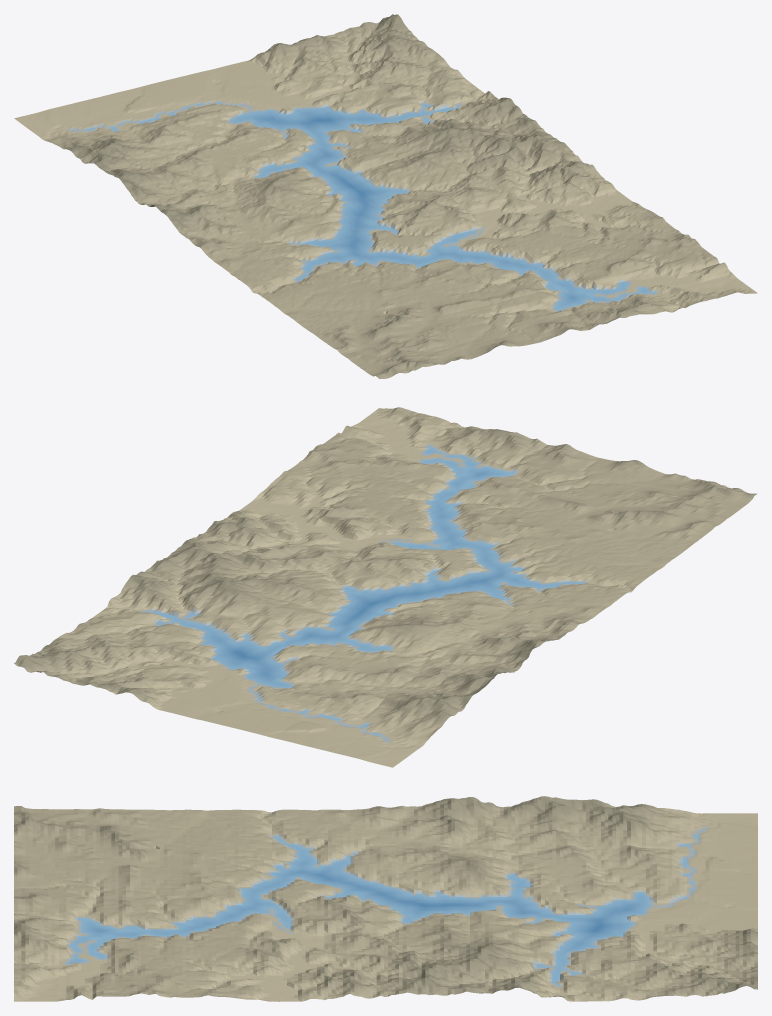
File: coeur_d_alene_lake_id.glb
3 views of the same model, one above another, from view 1: azimuth 30°, elevation 25°; view 2: azimuth 150°, elevation 25°; view 3: azimuth 270°, elevation 25° (orthographic).
Visible parts, largest first — view 1: terrain, water; view 2: terrain, water; view 3: terrain, water.
Part boxes in pixels (x1,y1,x2,y2): terrain: [14, 14, 757, 378]; water: [86, 102, 655, 310]; terrain: [14, 407, 757, 767]; water: [149, 445, 582, 735]; terrain: [14, 796, 757, 1001]; water: [66, 834, 698, 983].
Bounding box in the file's own units: 27861 × 1217 × 46508.
